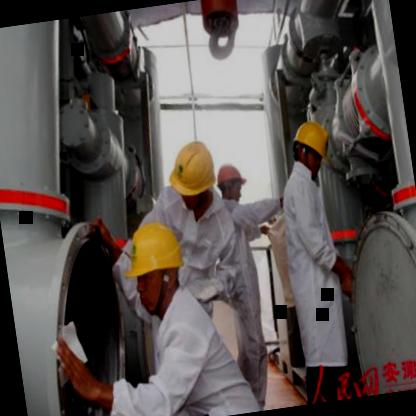helmet: (120, 217, 190, 320), (161, 129, 226, 220), (286, 114, 335, 180), (212, 156, 249, 206)
